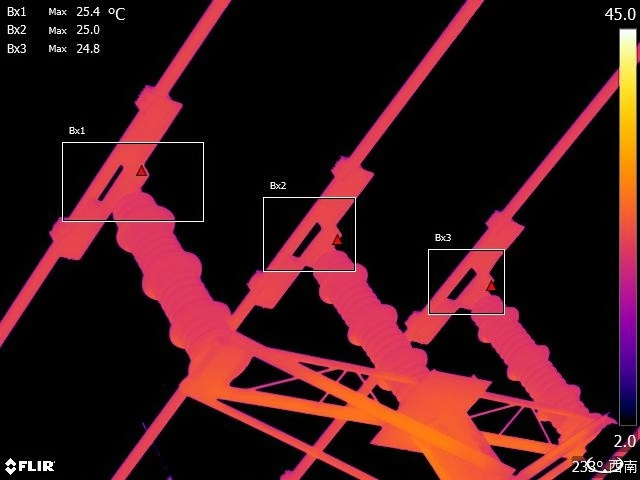post insulator: (111, 193, 241, 356), (311, 253, 434, 384), (477, 296, 590, 433)
